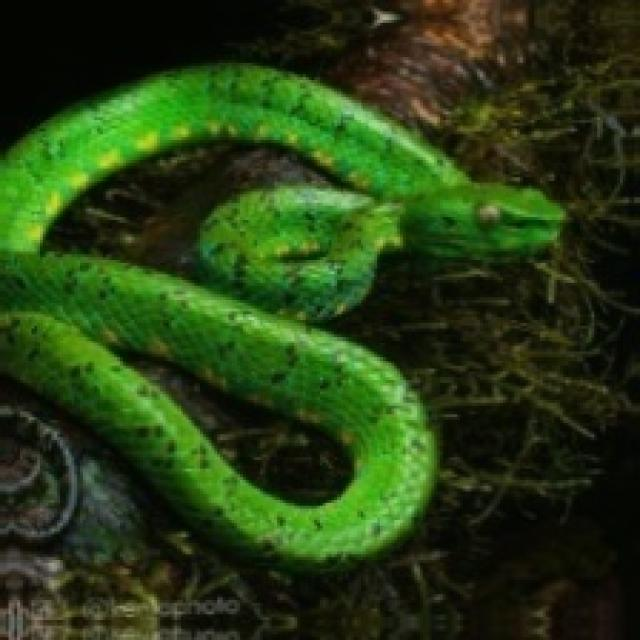philippine pitviper: (0, 66, 560, 566)
